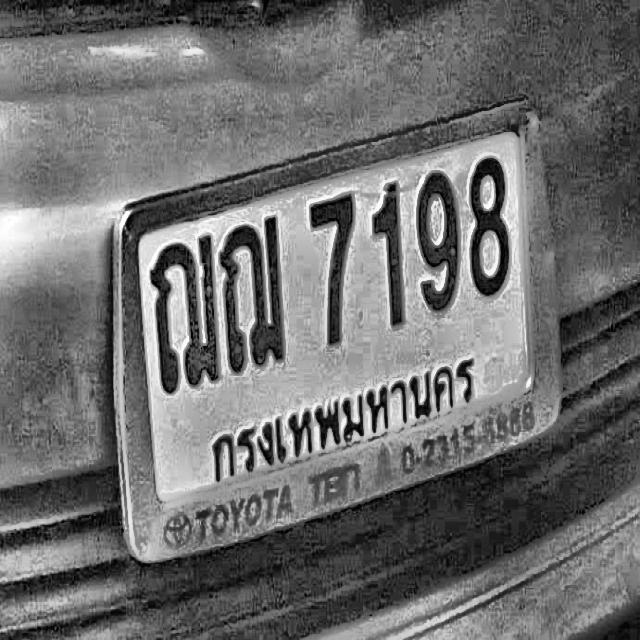license-plate: (96, 97, 579, 568)
